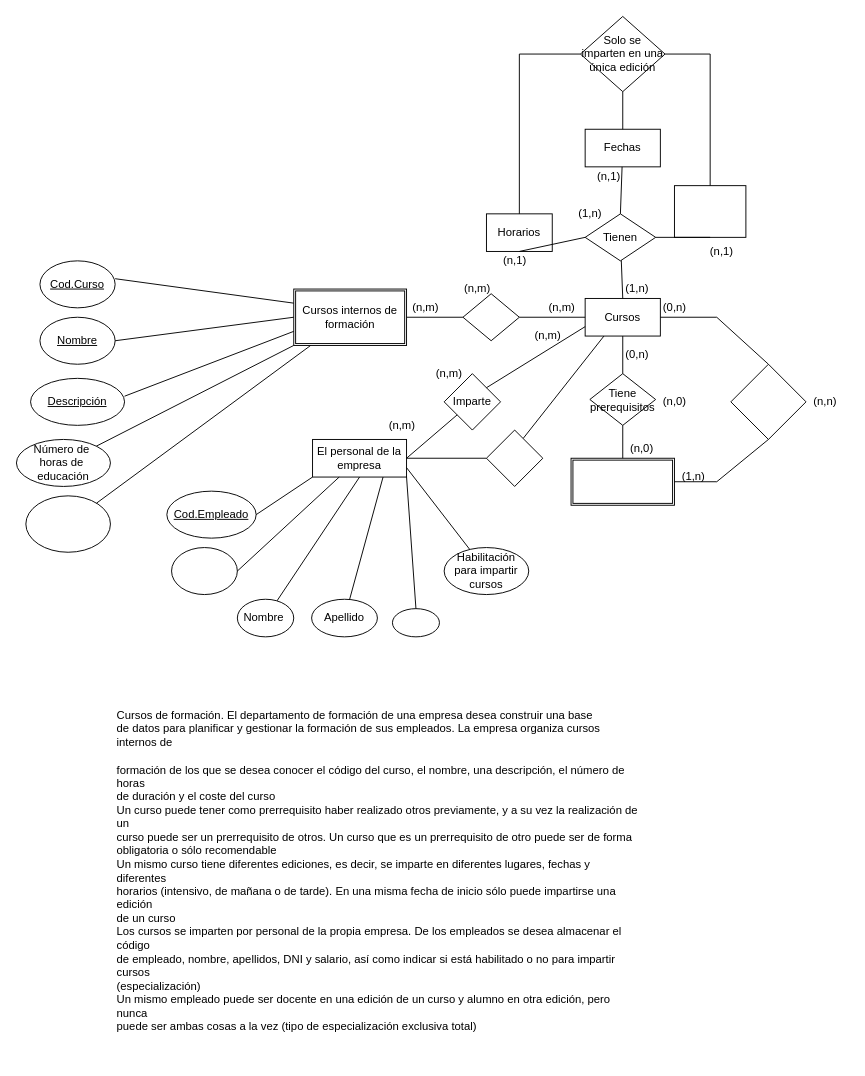
The diagram is 865 pixels wide and 1076 high, and some of its shapes have lost their labels. The shapes that lost their labels are listed below. From the top down, each one's centre as x and y in pixels, then its label:
point (710, 211): Lugar de impartición
point (490, 317): Tiene
point (768, 401): Obligatorio o recomendable
point (514, 457): Alumno
point (622, 481): Hacer otros cursos
point (67, 523): Coste del curso
point (204, 571): Salario
point (415, 622): DNI
